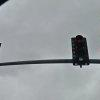Traffic light: (62, 25, 99, 76)
